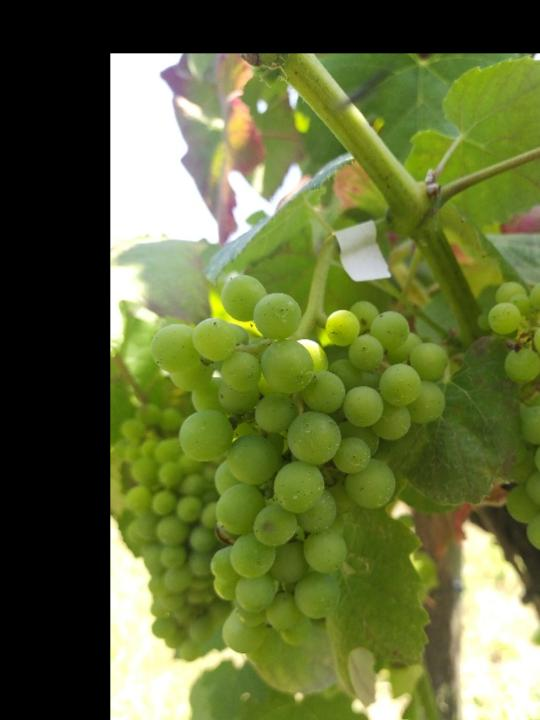grape: (151, 270, 451, 659)
